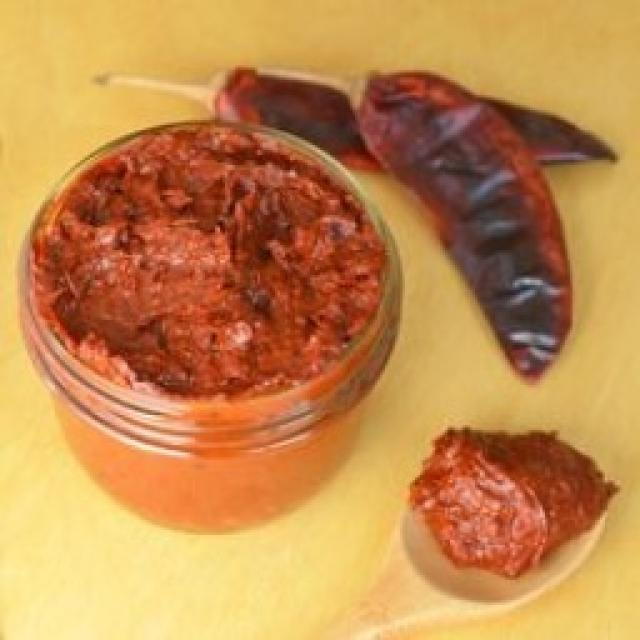Harissa: (20, 121, 401, 529), (426, 434, 612, 574)
